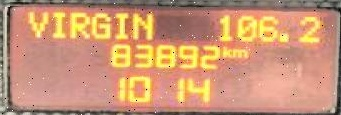-: (278, 30, 288, 43)
0: (126, 74, 150, 101), (235, 13, 256, 40)
1: (216, 11, 233, 42), (116, 74, 125, 100), (176, 75, 183, 103)
2: (296, 14, 320, 43), (198, 43, 219, 68)
3: (133, 43, 151, 68)
4: (184, 76, 208, 102)
6: (256, 13, 278, 42)
8: (155, 43, 175, 68), (110, 43, 130, 67)
9: (176, 43, 198, 69)
X: (129, 10, 153, 38), (25, 9, 46, 38), (68, 9, 88, 39), (111, 9, 130, 40), (90, 12, 111, 39), (50, 9, 65, 39), (231, 47, 248, 57), (220, 45, 231, 58)
